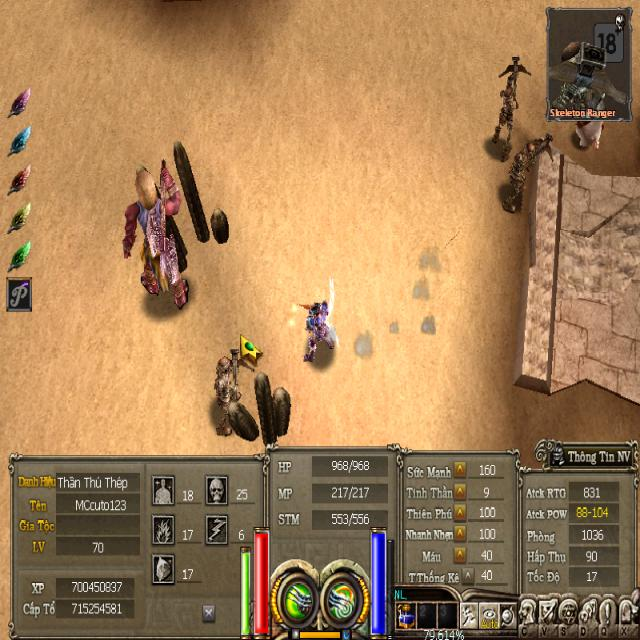monster: (116, 156, 201, 314), (204, 342, 250, 440), (486, 53, 528, 148), (513, 127, 547, 211)
